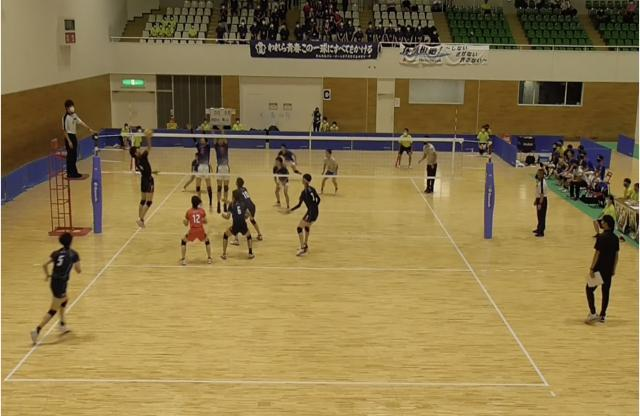spike: (128, 126, 160, 230)
